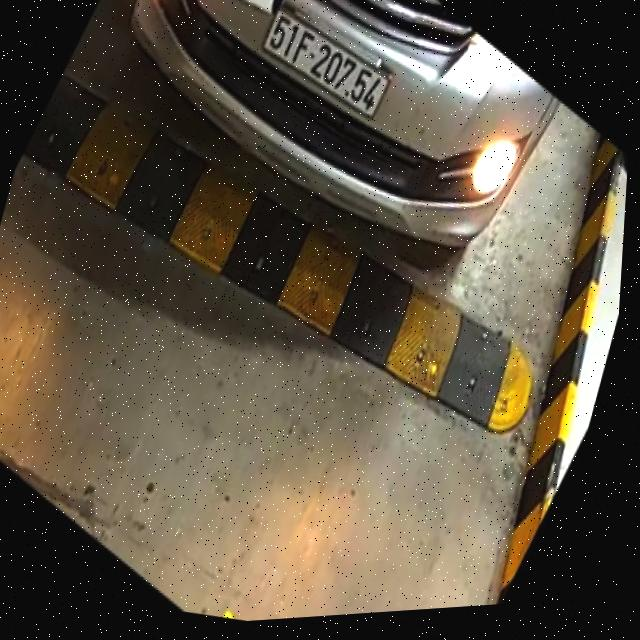car: (62, 0, 593, 315)
plate: (239, 0, 411, 136)
